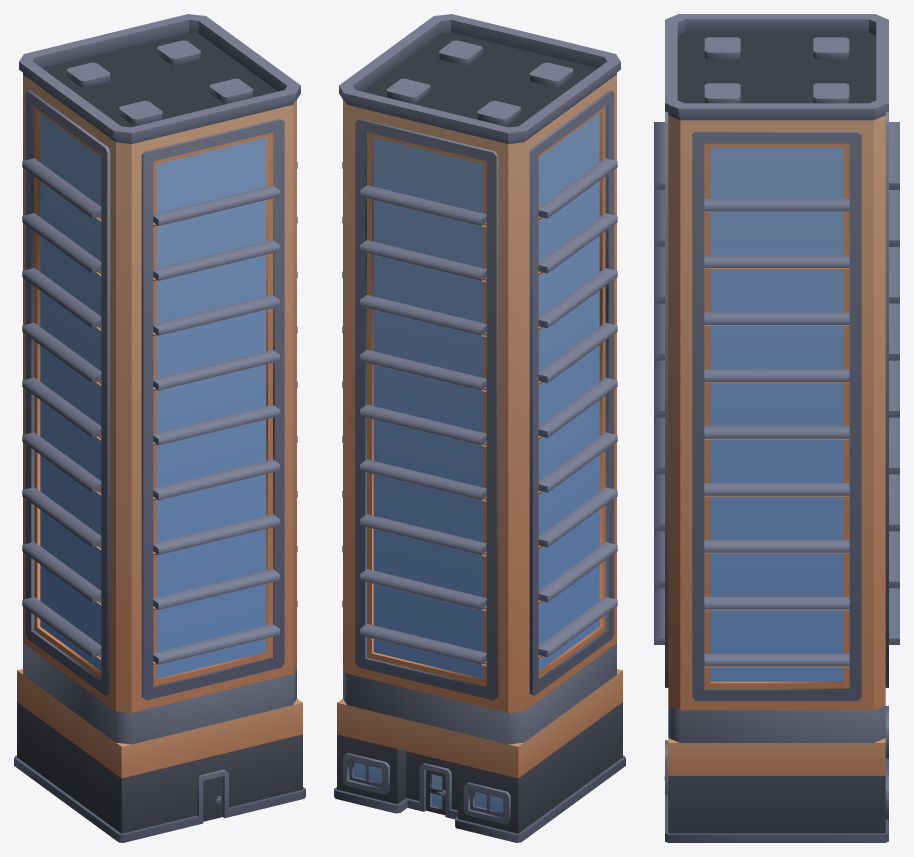
Rendered from building-skyscraper-b.glb.
The picture shows the model from 3 angles, left to right: view 1: azimuth 30°, elevation 25°; view 2: azimuth 150°, elevation 25°; view 3: azimuth 270°, elevation 25°; orthographic projection. The views are drawn at different scales.
Parts seen in each view (by area): view 1: building-skyscraper-b; view 2: building-skyscraper-b; view 3: building-skyscraper-b.
Part boxes in pixels (x1,y1,x2,y2): building-skyscraper-b: (14,14,305,842); building-skyscraper-b: (334,14,625,842); building-skyscraper-b: (654,14,899,842).
Bounding box in the file's own units: 1.36 × 4.48 × 1.36.
1 material, 1 textured.
